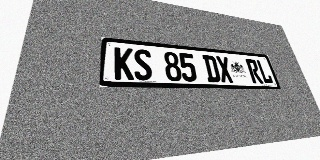5: (178, 53, 198, 82)
8: (163, 51, 182, 81)
D: (202, 55, 221, 82)
K: (114, 47, 134, 80)
L: (256, 60, 274, 84)
R: (245, 59, 264, 84)
S: (133, 49, 153, 81)
X: (215, 56, 234, 83)
